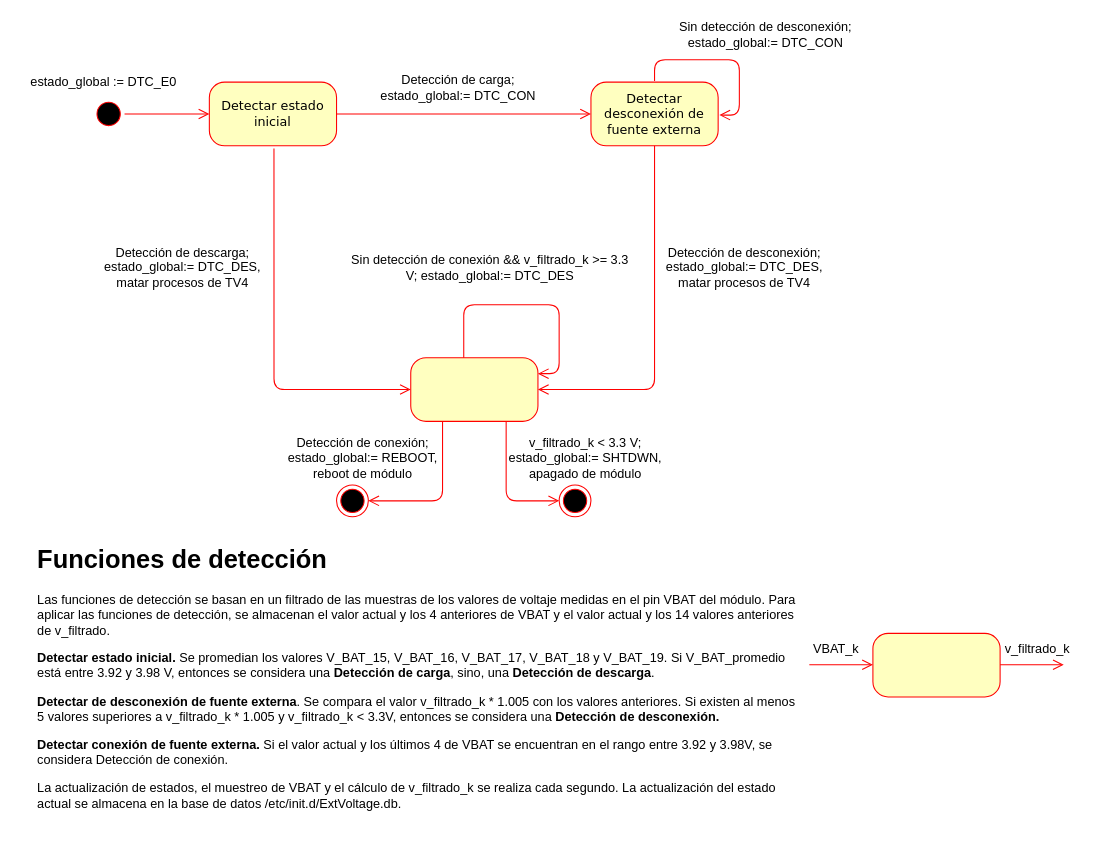
Image size: 1097x845. Some labels were removed from this diagram. Each missing label, with the box of its shape:
Detectar conexión de fuente externa: (410, 357, 538, 421)
Filtro de Kalman: (872, 632, 1000, 697)
